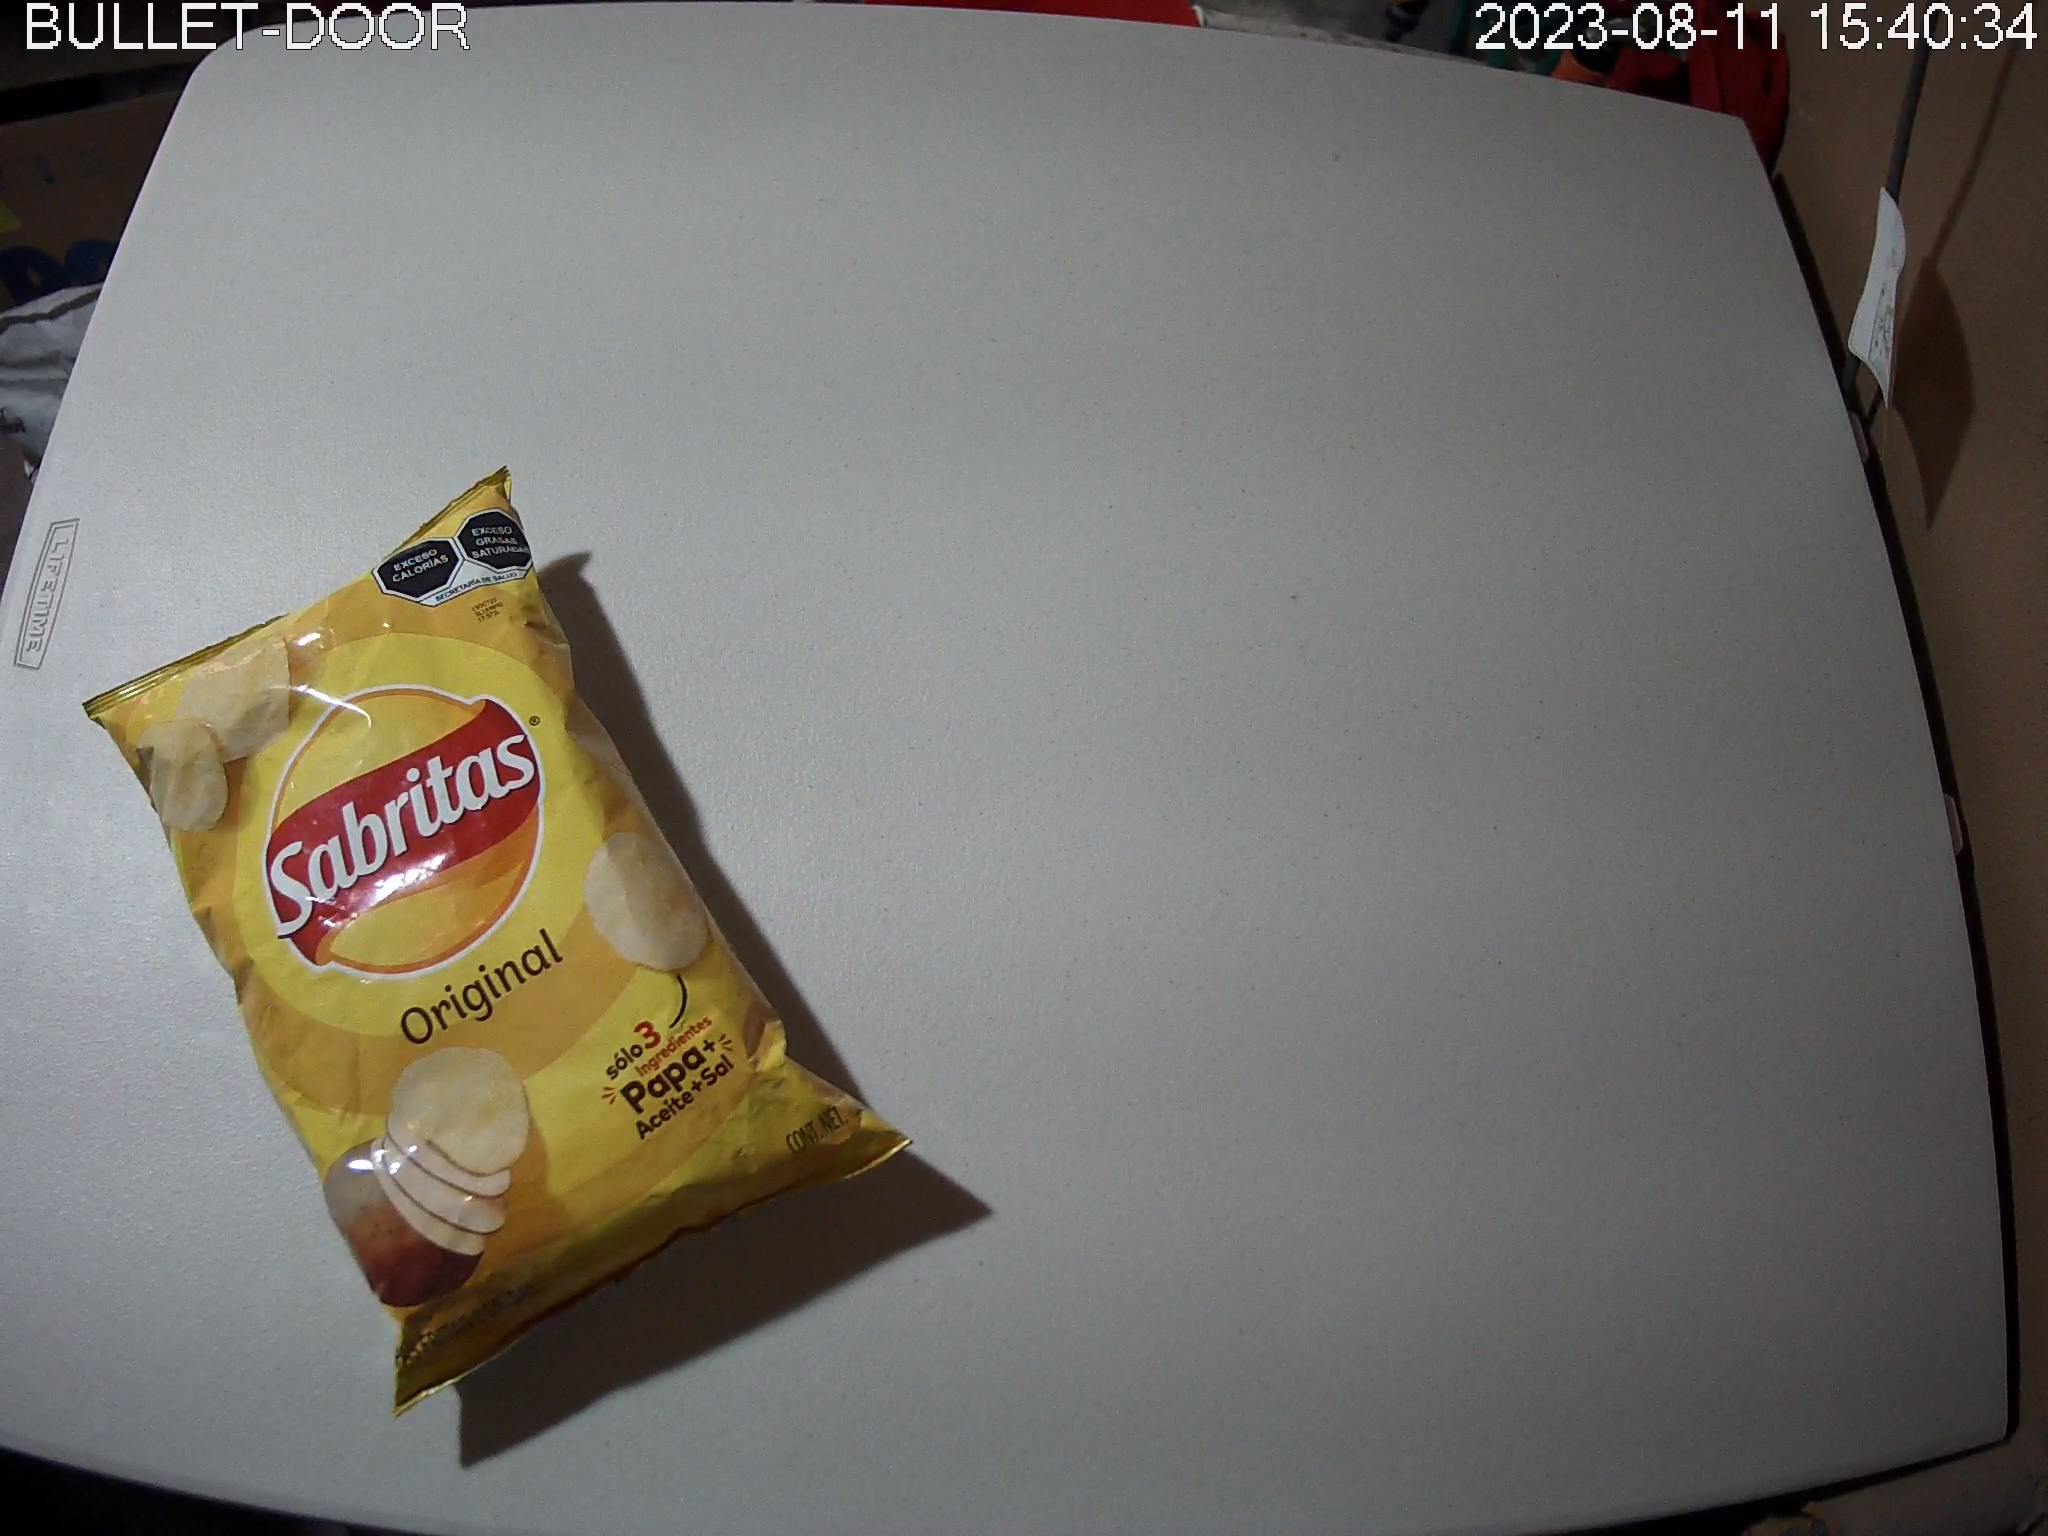Sabritas_160_F: (81, 465, 921, 1421)
